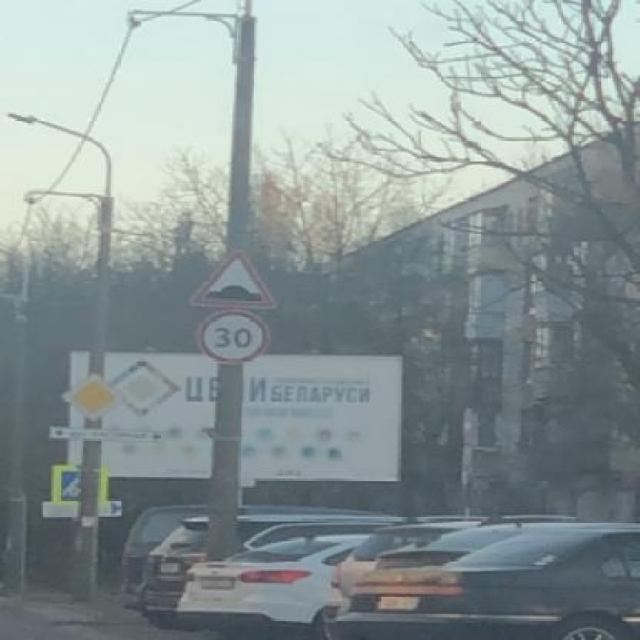forb_speed_over_30: (197, 310, 266, 362)
